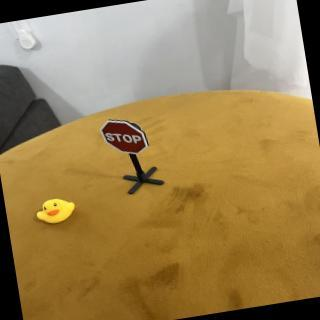duck_regular: (34, 195, 81, 228)
sign_stop: (99, 113, 153, 162)
